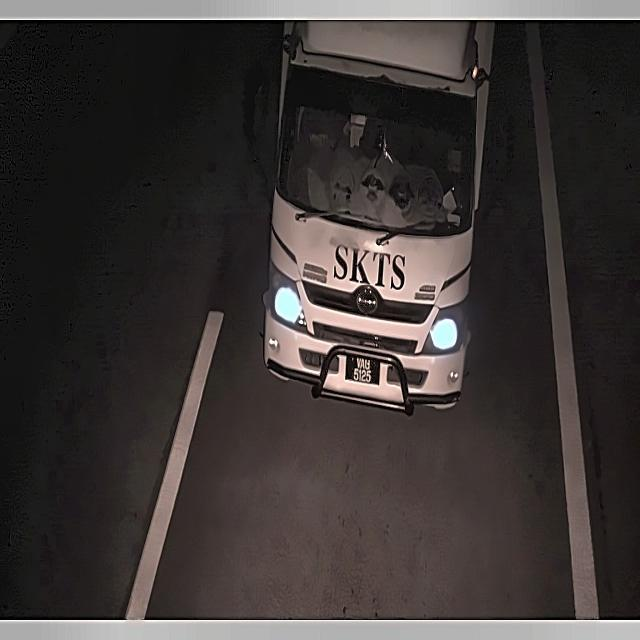car: (340, 346, 384, 390)
